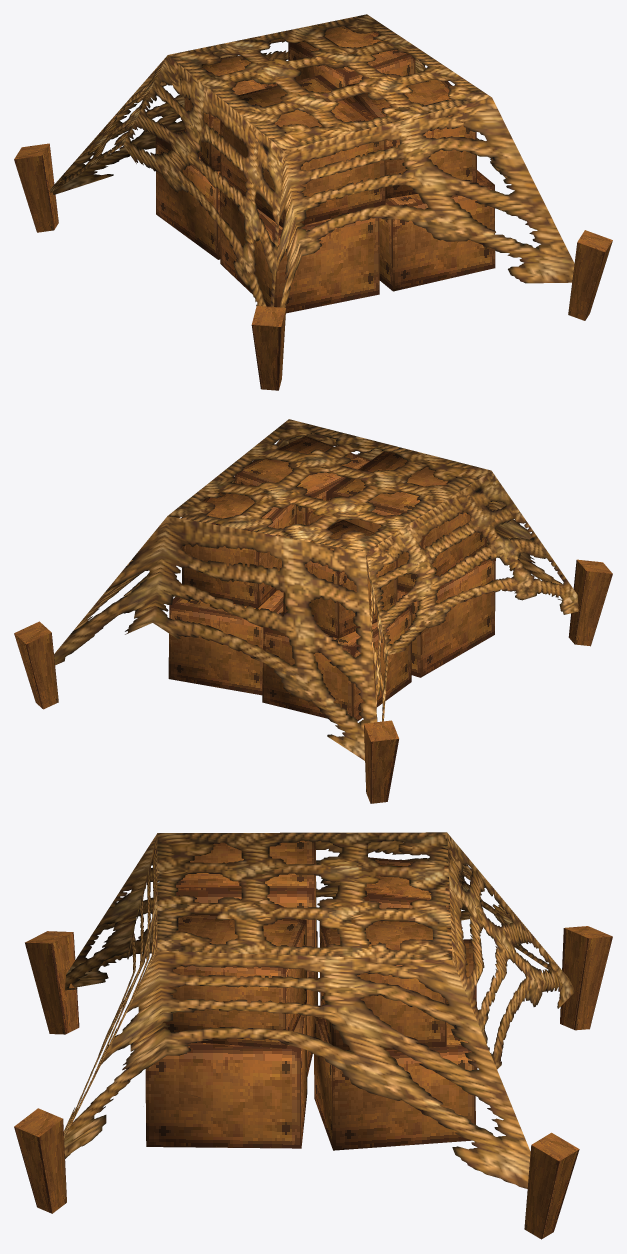
Rendered from deadminecargonetboxes.obj.
The picture shows the model from 3 angles, top to bottom: view 1: azimuth 30°, elevation 25°; view 2: azimuth 150°, elevation 25°; view 3: azimuth 270°, elevation 25°; orthographic projection. The views are drawn at different scales.
Visible parts, largest first — view 1: Geoset1, Geoset0; view 2: Geoset1, Geoset0; view 3: Geoset1, Geoset0.
Part boxes in pixels (x1,y1,x2,y2): Geoset1: (50, 14, 574, 307); Geoset0: (14, 26, 612, 390); Geoset1: (54, 419, 578, 760); Geoset0: (14, 436, 612, 803); Geoset1: (63, 832, 574, 1188); Geoset0: (14, 840, 612, 1239).
Bounding box in the file's own units: 3.74 × 1.74 × 4.02.
Materials: 2 (2 with a texture image).
